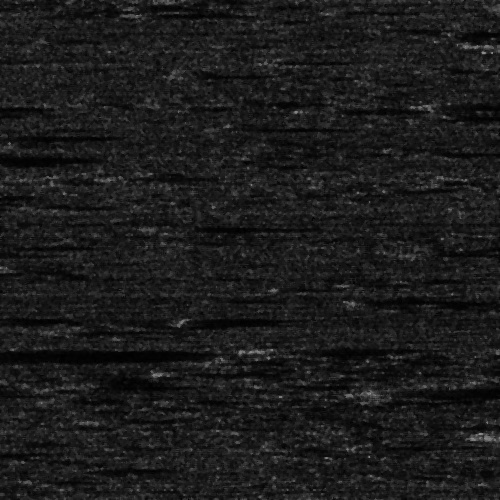object: (333, 384, 438, 395), (224, 344, 297, 353), (337, 296, 390, 305), (473, 427, 500, 438), (126, 9, 167, 16), (180, 313, 211, 322), (0, 133, 53, 138), (207, 124, 260, 129), (397, 249, 450, 254), (0, 242, 31, 249), (484, 35, 500, 48), (419, 103, 460, 106), (164, 224, 195, 227)
shadow: (0, 345, 197, 358), (386, 384, 500, 395), (364, 296, 500, 305), (0, 150, 91, 163), (261, 344, 390, 353), (196, 313, 320, 322), (147, 9, 269, 16), (0, 140, 43, 157), (0, 242, 100, 249), (12, 133, 126, 138), (234, 124, 332, 129), (424, 249, 500, 254), (180, 224, 305, 227), (439, 103, 500, 106), (0, 103, 28, 108)
